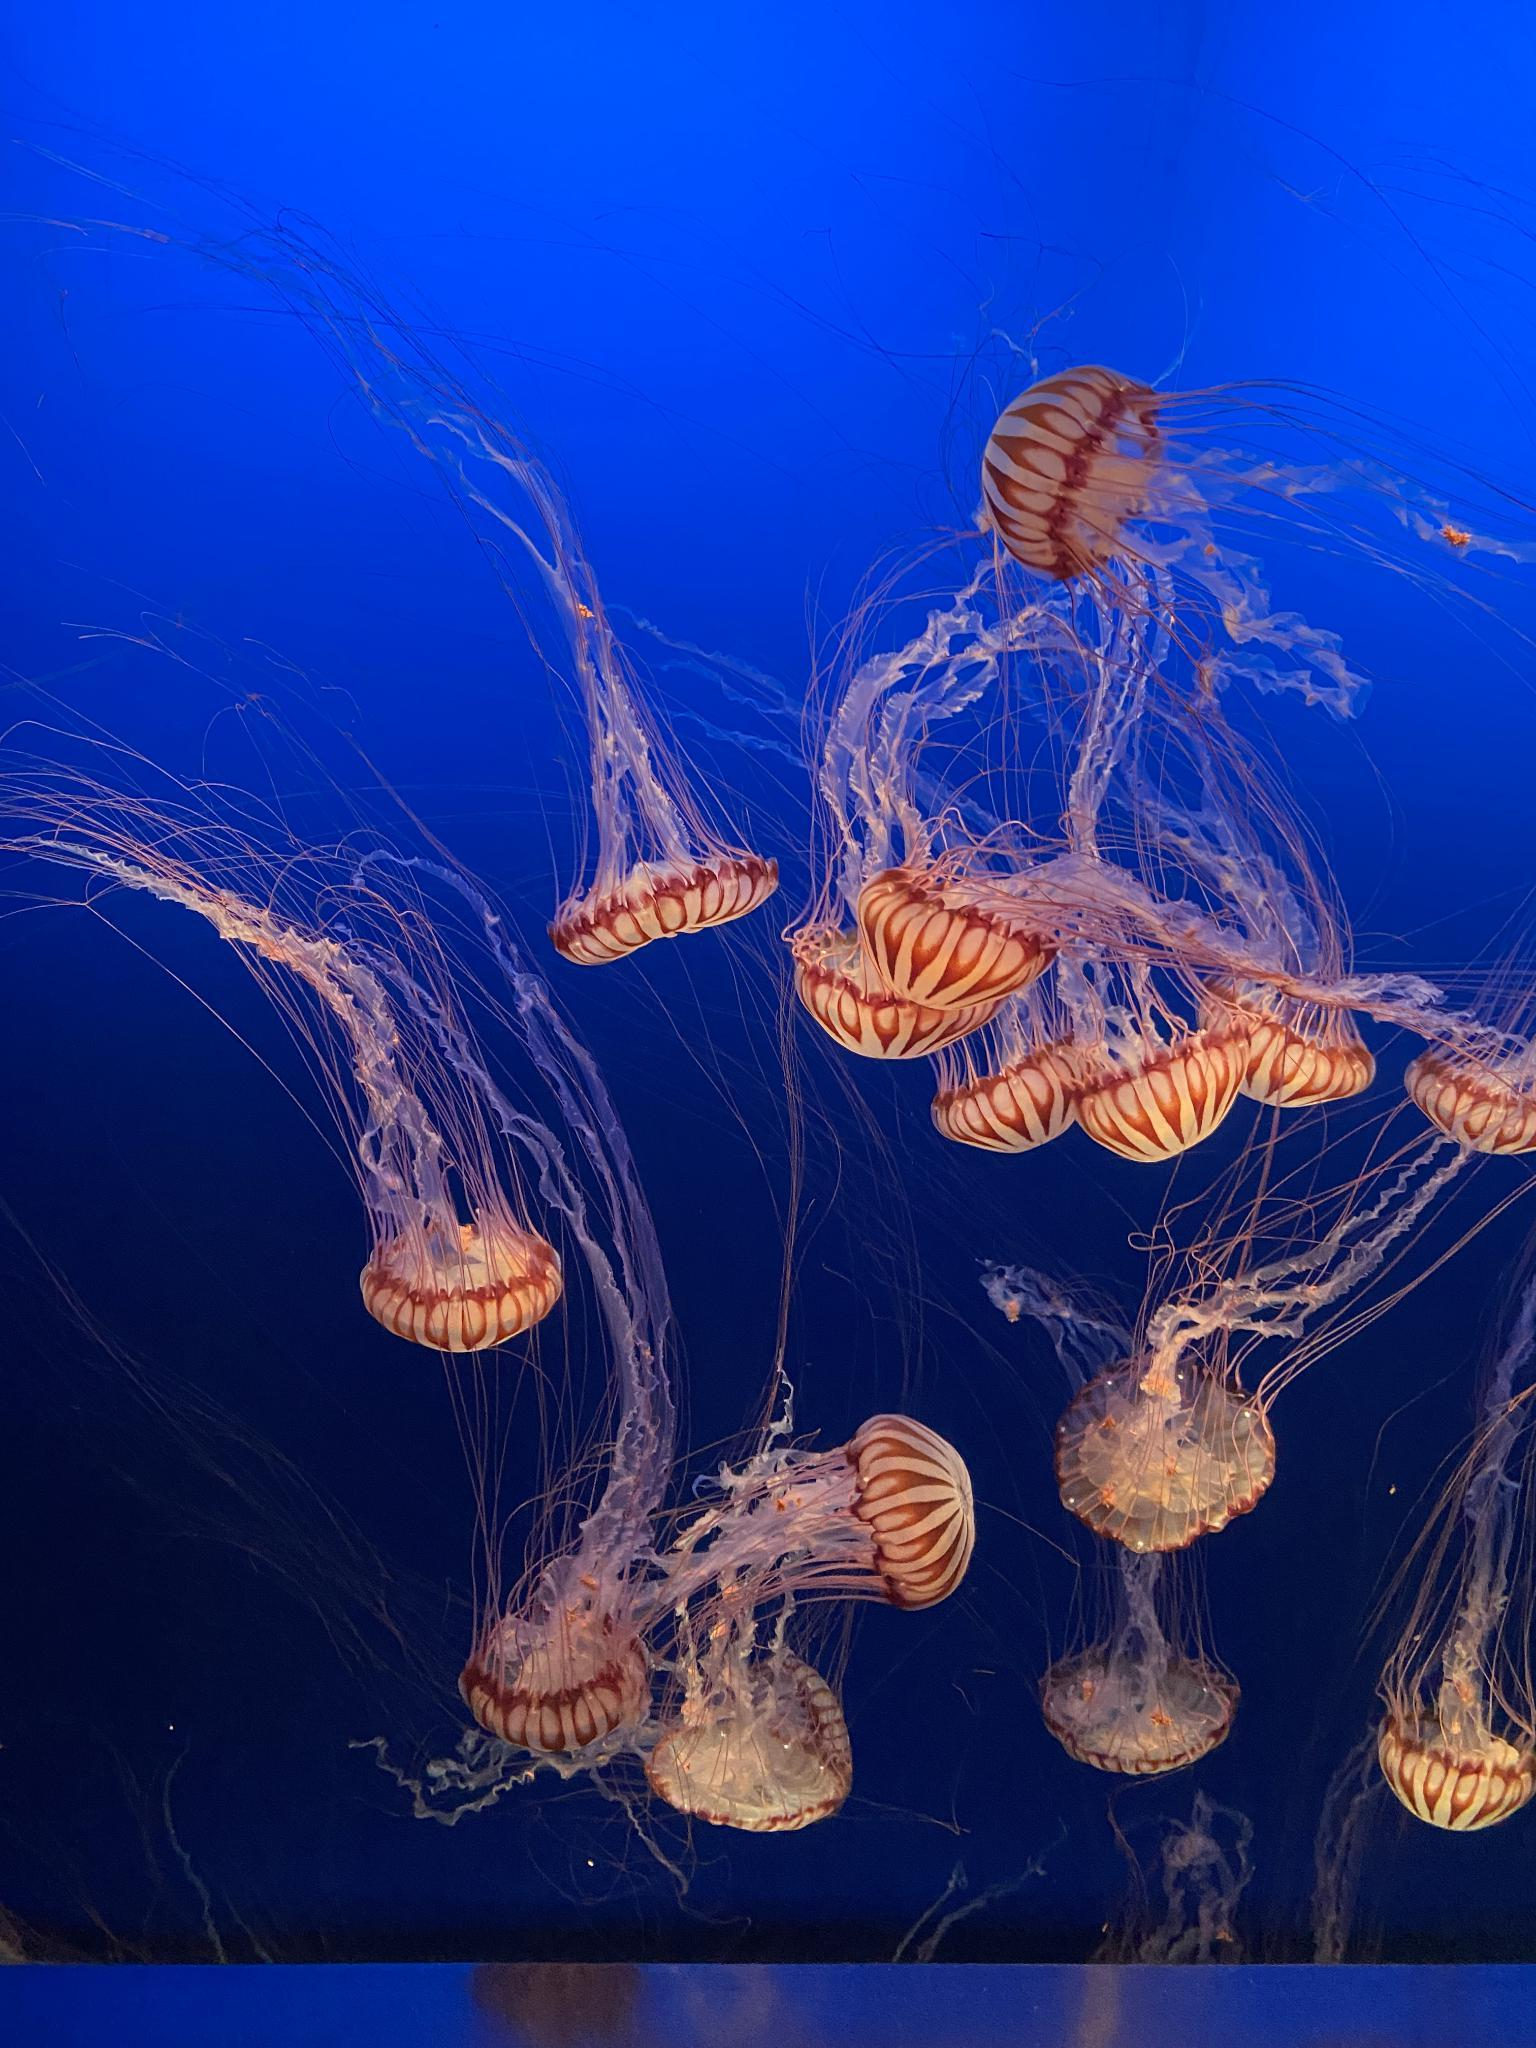jellyfish: (1058, 1353, 1270, 1553), (642, 1643, 852, 1830), (983, 369, 1163, 581), (365, 1218, 560, 1356), (549, 848, 778, 966), (858, 868, 1058, 998), (794, 934, 991, 1064), (854, 1409, 975, 1613), (1042, 1651, 1234, 1777), (1078, 1026, 1250, 1163), (465, 1617, 637, 1750), (1197, 984, 1373, 1109), (937, 1027, 1104, 1156), (1379, 1716, 1536, 1834), (1405, 1050, 1536, 1158)
